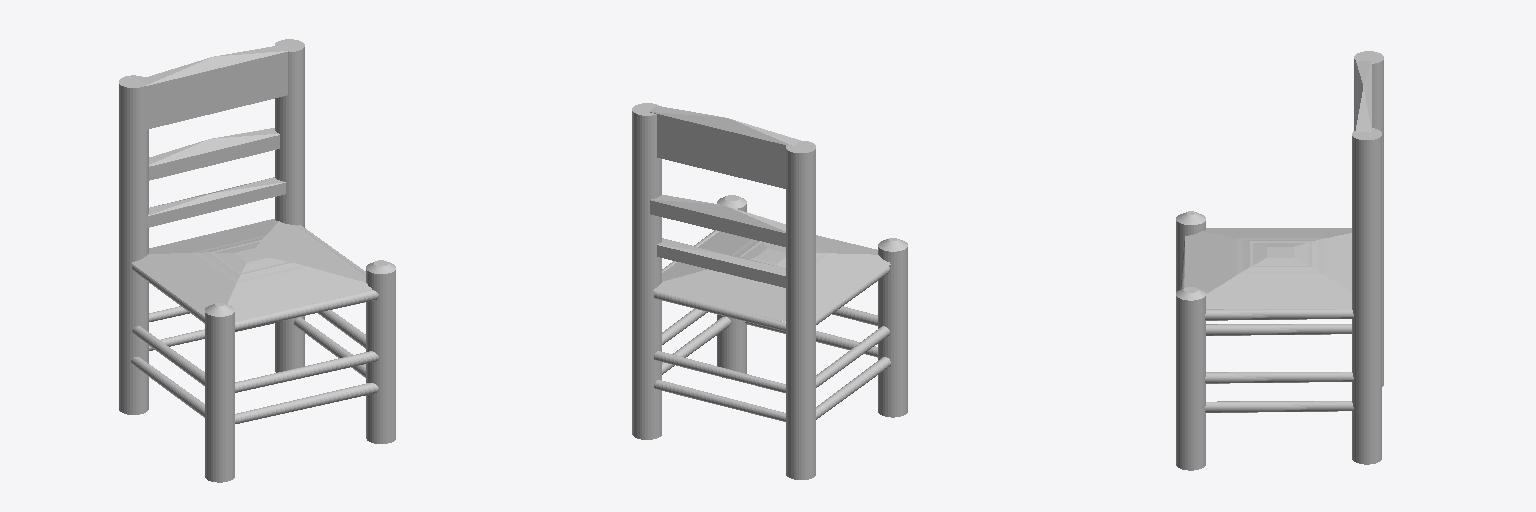
File: VG_Chair.obj
3 renders of one model, left to right at view 1: azimuth 30°, elevation 25°; view 2: azimuth 150°, elevation 25°; view 3: azimuth 270°, elevation 25°, orthographic.
Visible parts, largest first — view 1: Cube, Pied_1__Cylinder, Cube.001, Pied_3_Cylinder.002, Pied_2_Cylinder.001, Pied_s_Cylinder.003, Cube.002, Cube.003, Entre-Pied1.005_Cylinder.009, Entre-Pied1.008_Cylinder.013, Entre-Pied1.006_Cylinder.010, Entre-Pied1.010_Cylinder.015 (+3 smaller); view 2: Pied_1__Cylinder, Cube, Pied_3_Cylinder.002, Cube.001, Pied_2_Cylinder.001, Cube.002, Cube.003, Pied_s_Cylinder.003, Entre-Pied1.009_Cylinder.014, Entre-Pied1.004_Cylinder.012, Entre-Pied1.007_Cylinder.011, Entre-Pied1.010_Cylinder.015 (+4 smaller); view 3: Cube, Pied_3_Cylinder.002, Pied_s_Cylinder.003, Pied_1__Cylinder, Entre-Pied1.011_Cylinder.016, Entre-Pied1.010_Cylinder.015, Entre-Pied1.001_Cylinder.005, Entre-Pied1_Cylinder.004, Cube.001, Pied_2_Cylinder.001.
Part boxes in pixels (x1,y1,x2,y2): Cube: (132, 219, 371, 321); Pied_1__Cylinder: (119, 75, 148, 414); Cube.001: (139, 45, 291, 129); Pied_3_Cylinder.002: (275, 39, 304, 372); Pied_2_Cylinder.001: (205, 303, 234, 482); Pied_s_Cylinder.003: (366, 260, 395, 443); Cube.002: (149, 128, 279, 180); Cube.003: (147, 177, 285, 227); Entre-Pied1.005_Cylinder.009: (235, 351, 378, 392); Entre-Pied1.008_Cylinder.013: (235, 383, 378, 423); Entre-Pied1.006_Cylinder.010: (235, 290, 378, 330); Entre-Pied1.010_Cylinder.015: (131, 357, 204, 417); Pied_1__Cylinder: (786, 141, 815, 479); Cube: (653, 231, 890, 321); Pied_3_Cylinder.002: (632, 103, 661, 439); Cube.001: (649, 106, 800, 188); Pied_2_Cylinder.001: (878, 238, 907, 417); Cube.002: (650, 195, 785, 246); Cube.003: (657, 238, 785, 287); Pied_s_Cylinder.003: (717, 195, 746, 378); Entre-Pied1.009_Cylinder.014: (654, 380, 785, 421); Entre-Pied1.004_Cylinder.012: (654, 351, 785, 392); Entre-Pied1.007_Cylinder.011: (654, 291, 785, 331); Entre-Pied1.010_Cylinder.015: (816, 357, 890, 419); Cube: (1185, 228, 1351, 308); Pied_3_Cylinder.002: (1352, 128, 1381, 464); Pied_s_Cylinder.003: (1176, 287, 1205, 470); Pied_1__Cylinder: (1354, 51, 1383, 386); Entre-Pied1.011_Cylinder.016: (1205, 401, 1353, 412); Entre-Pied1.010_Cylinder.015: (1206, 324, 1351, 335); Entre-Pied1.001_Cylinder.005: (1205, 372, 1353, 383); Entre-Pied1_Cylinder.004: (1205, 309, 1353, 320); Cube.001: (1355, 61, 1371, 131); Pied_2_Cylinder.001: (1176, 211, 1205, 291).
Size of the model in its own units: 4.78 by 8.23 by 4.61.